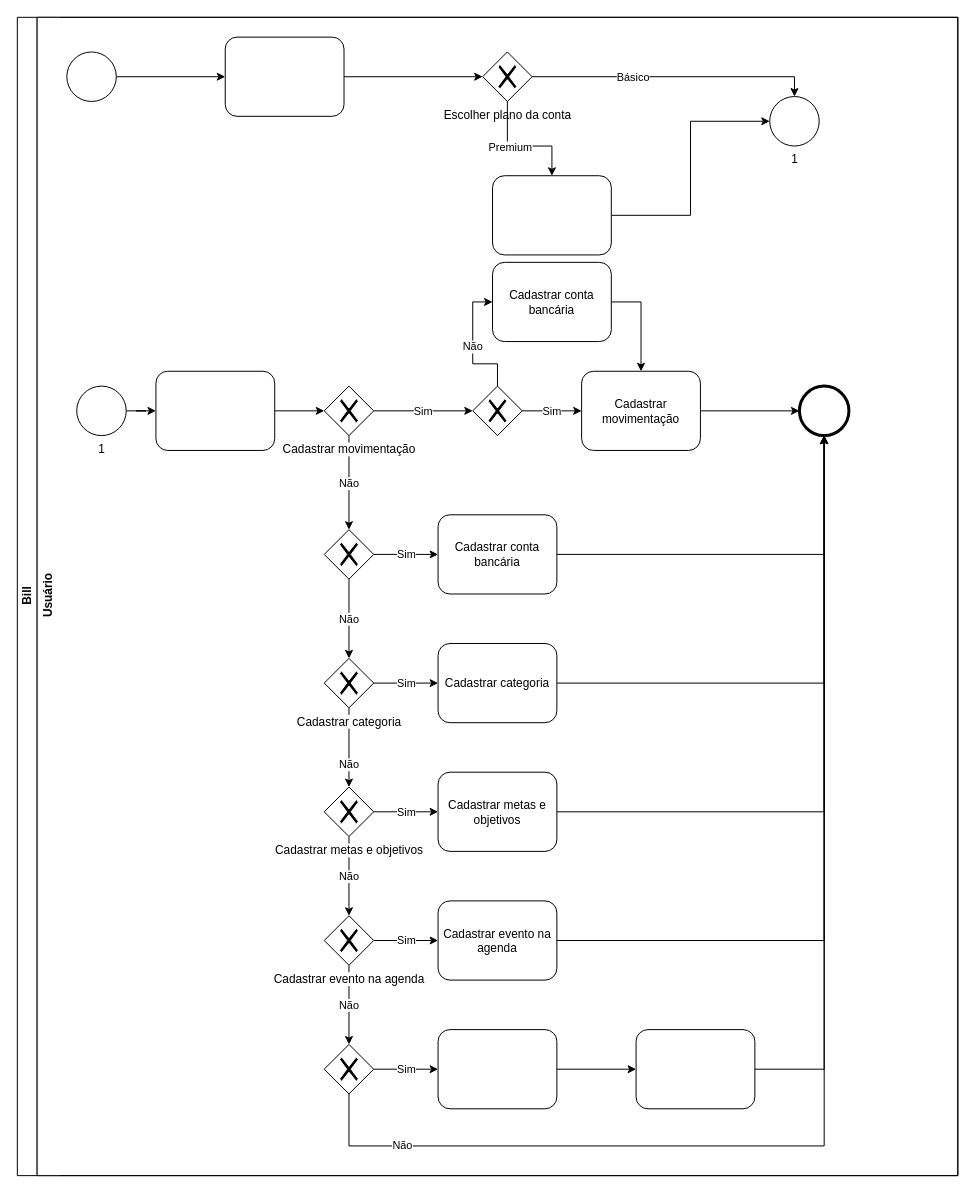
Image size: 975x1193. Some labels were removed from this diagram. The shapes that lost their labels are listed below. From the top down, each one's centre as x and y in pixels, then its label:
At point 284,76: "Criar uma conta".
At point 551,215: "Cadastrar um cartão de crédito ou conta paypal".
At point 215,410: "Realizar login".
At point 497,410: "Possui uma conta cadastrada".
At point 348,554: "Cadastrar conta".
At point 348,1068: "Visualizar gráficos".
At point 497,1069: "Filtrar informações para alimentar o gráfico".
At point 695,1069: "Visualizar o gráfico".
